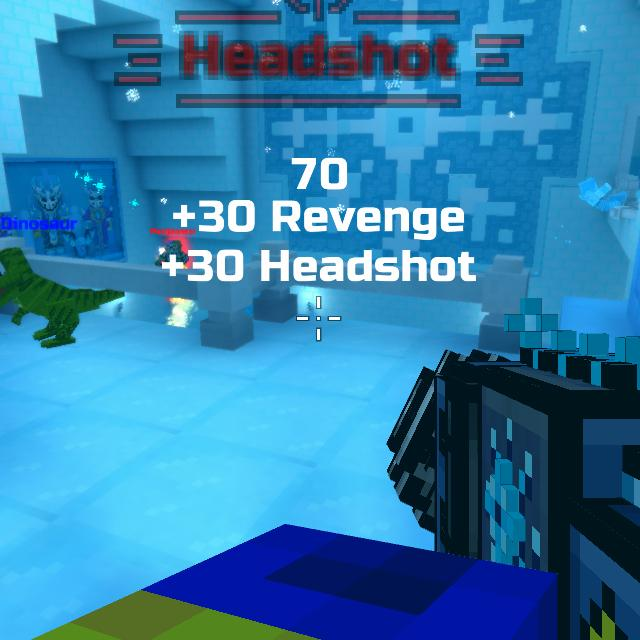Enemy: (159, 239, 188, 276)
